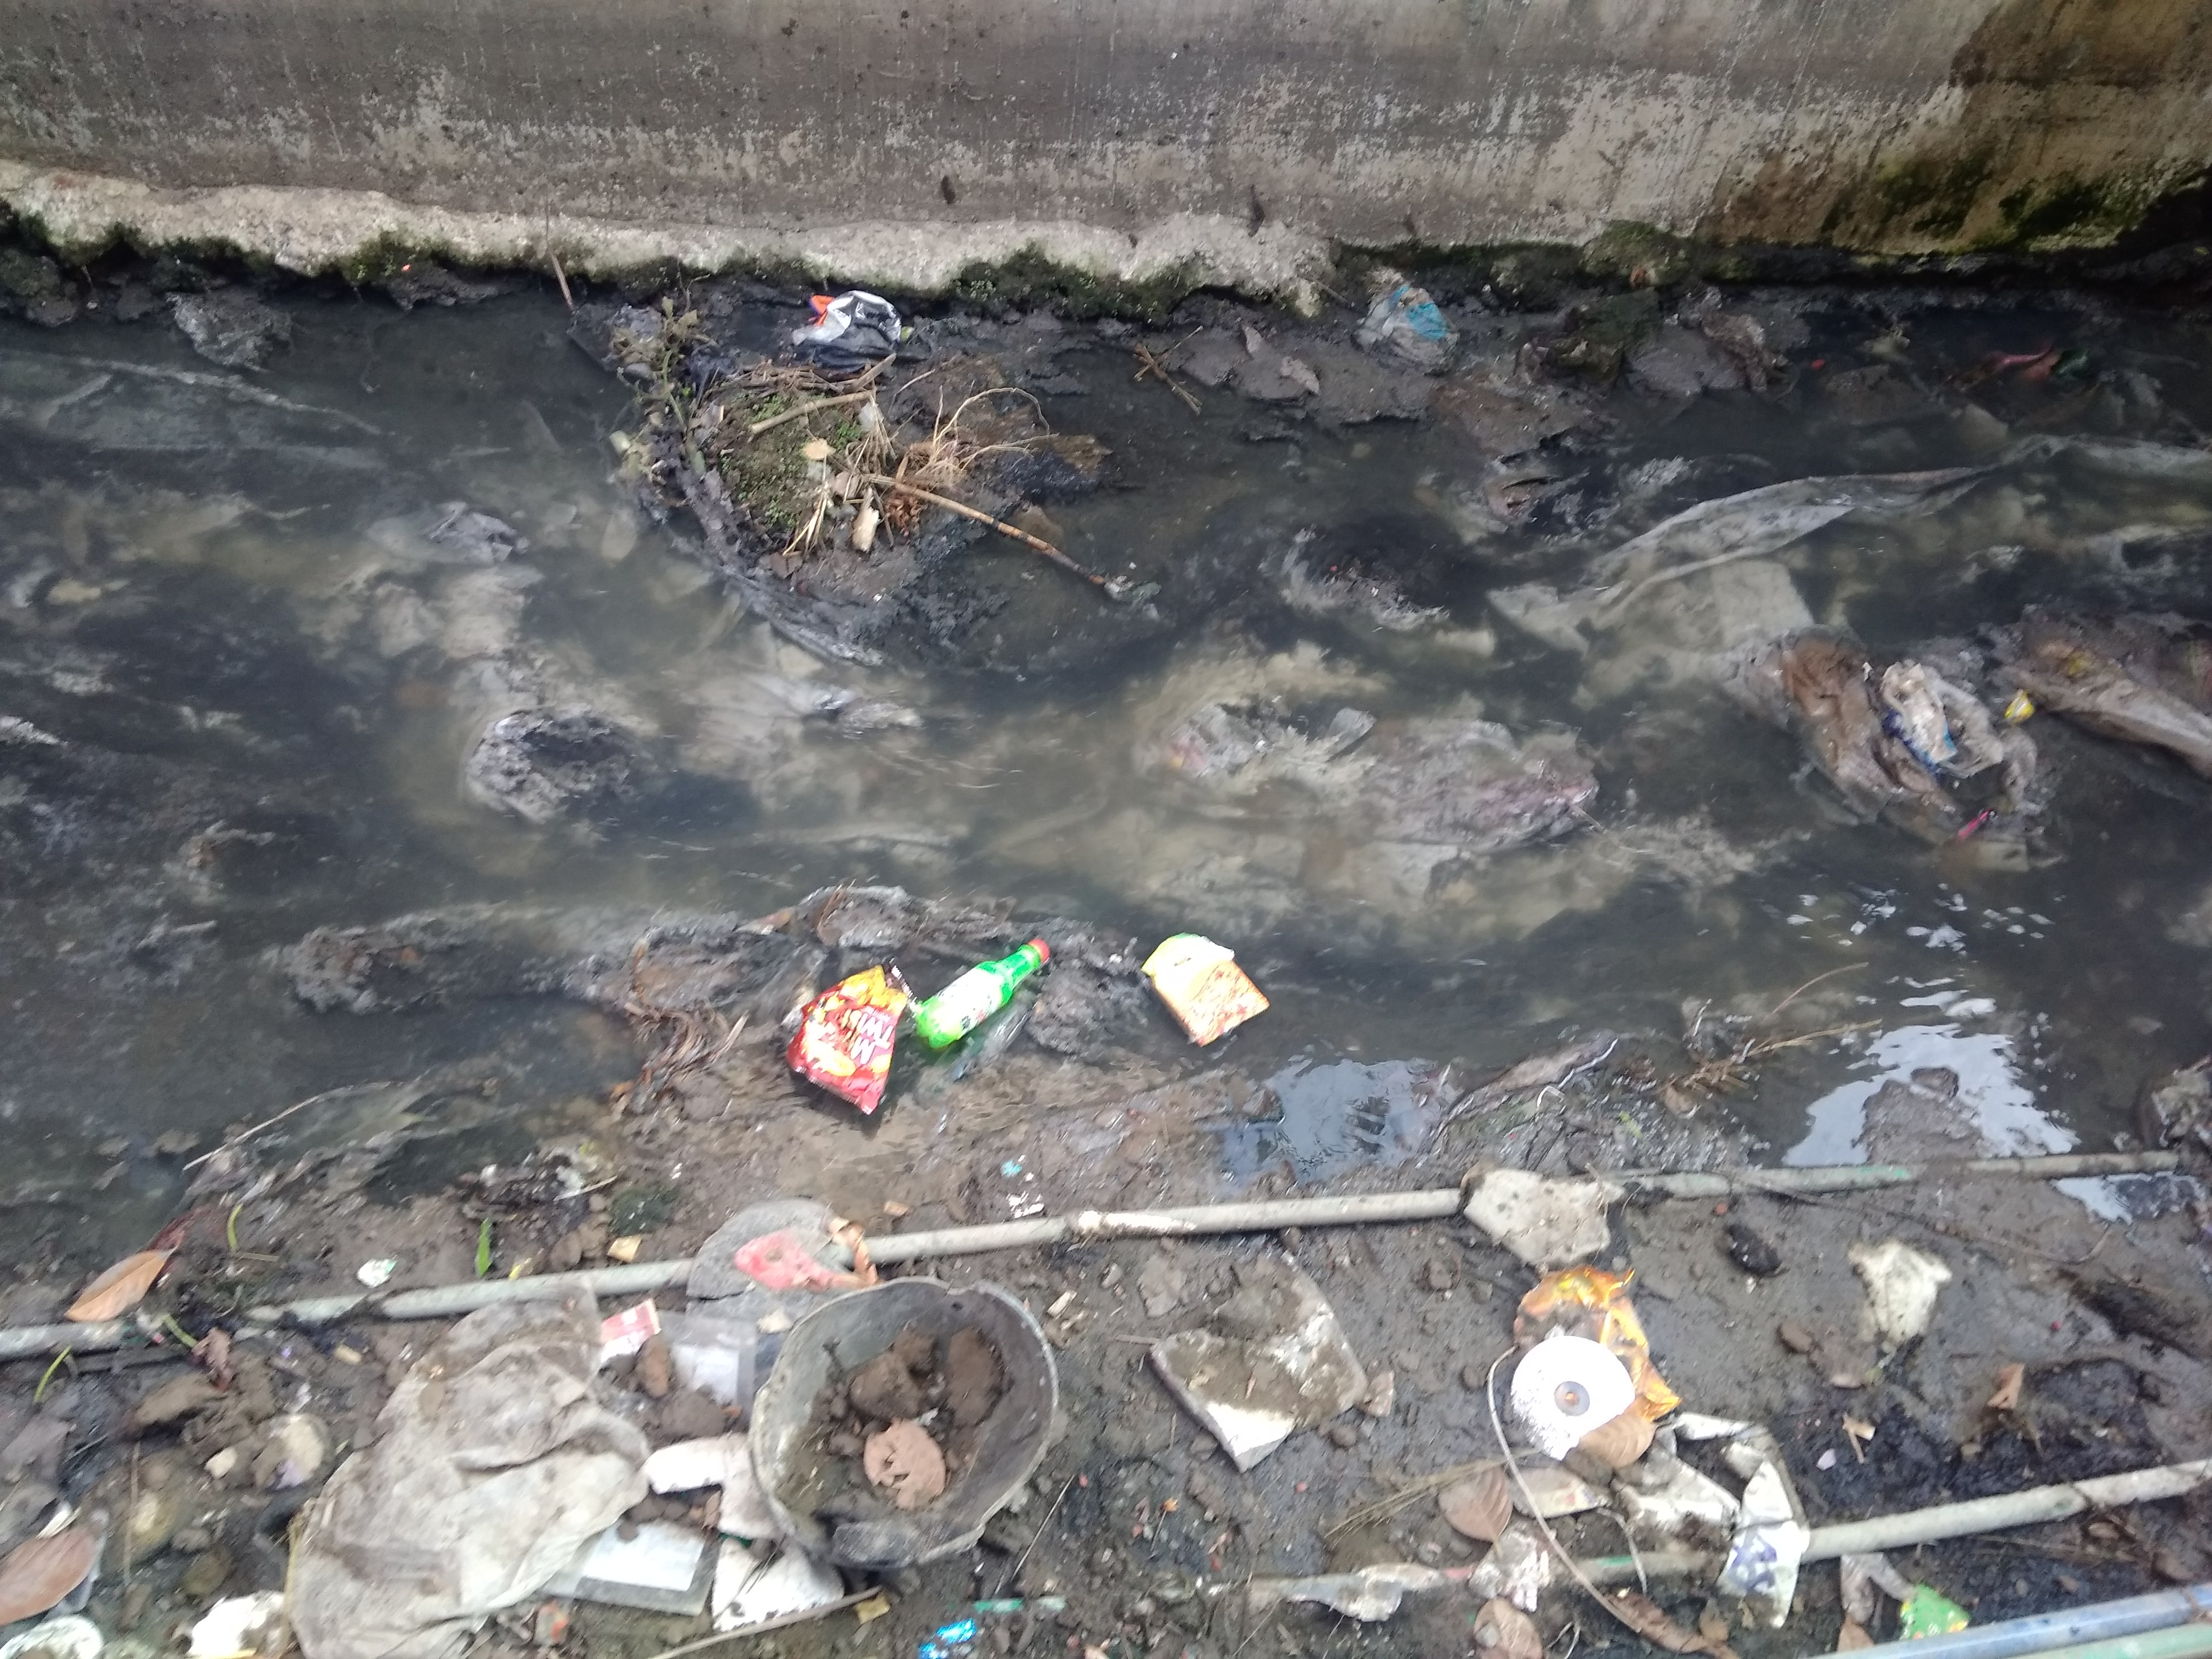Plastic Bottle: (914, 939, 1050, 1047)
